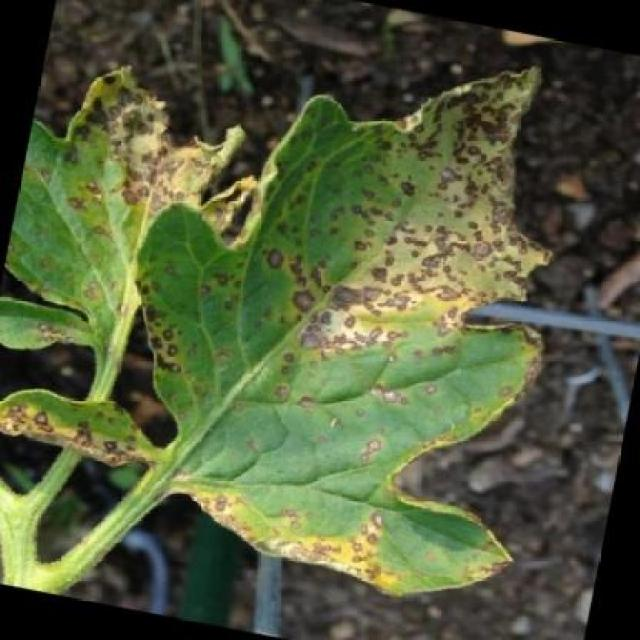Septoria leaf spot: (92, 12, 603, 636), (0, 39, 237, 392)
